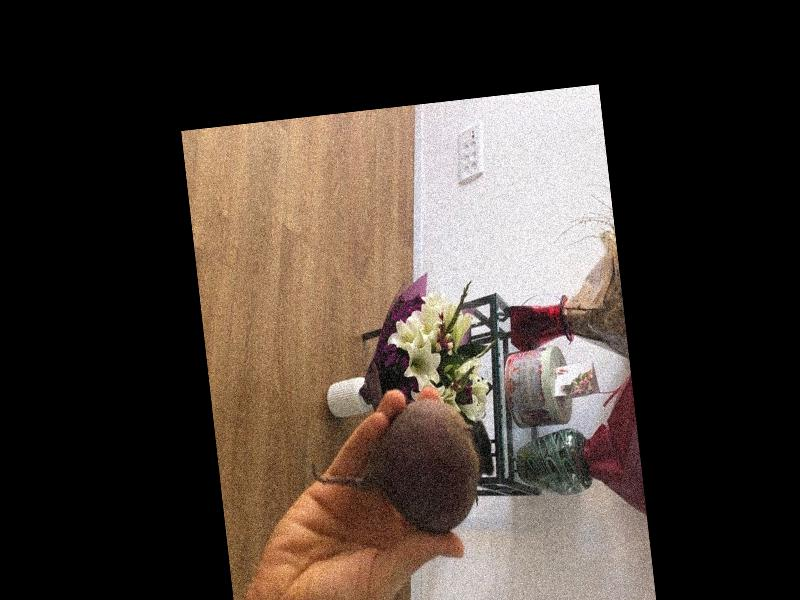Beet: (305, 391, 500, 545)
